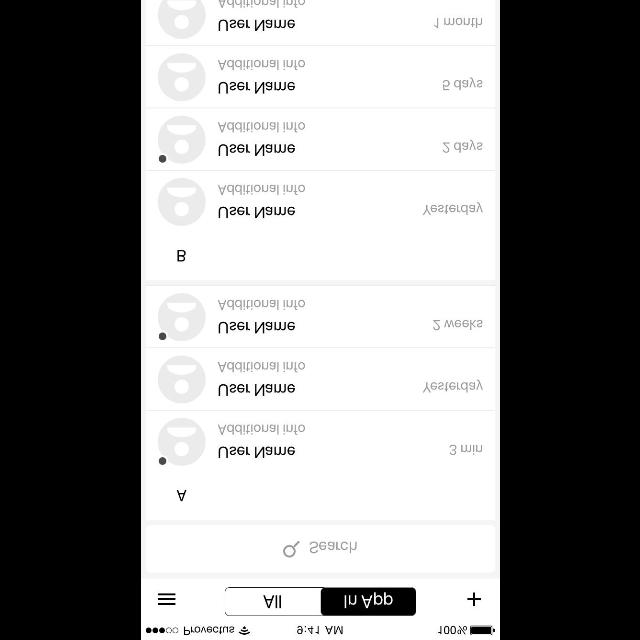icon: (155, 418, 205, 466), (154, 116, 203, 164), (157, 54, 206, 102), (156, 356, 204, 404), (156, 294, 204, 342), (156, 179, 204, 227), (156, 1, 204, 40), (282, 540, 300, 558), (467, 592, 481, 606), (158, 594, 175, 604)
input: (144, 524, 496, 572)
text: (217, 18, 296, 34), (216, 298, 304, 312), (217, 81, 296, 95), (217, 321, 295, 335), (217, 206, 295, 220), (217, 184, 306, 196), (217, 121, 306, 133), (217, 59, 306, 71), (216, 362, 304, 374), (421, 379, 483, 395), (217, 144, 296, 156), (218, 383, 294, 395), (218, 424, 304, 434), (219, 1, 305, 11), (422, 202, 483, 216), (218, 447, 294, 458), (442, 76, 482, 92), (432, 319, 483, 331), (433, 17, 482, 29), (309, 541, 356, 553), (442, 140, 482, 154), (449, 444, 483, 456), (176, 248, 187, 262), (176, 488, 187, 500)
textbutton: (224, 586, 322, 616), (320, 588, 416, 616)
uppertaskbar: (140, 625, 500, 639)
